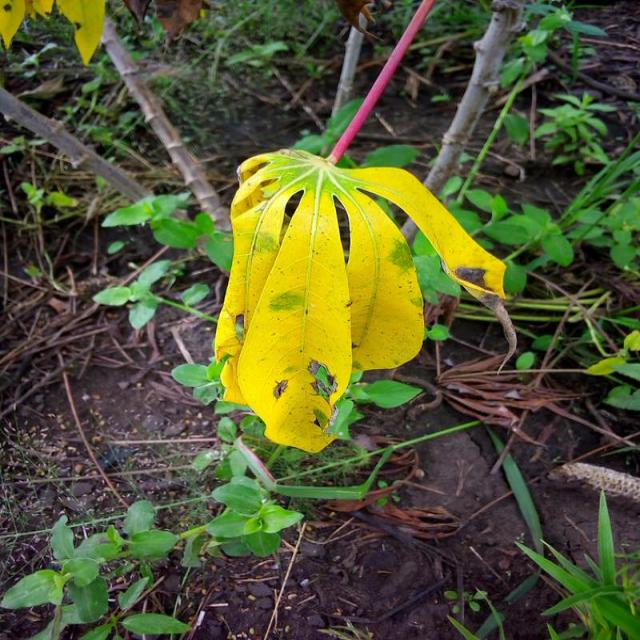cassava leaf: (213, 145, 515, 453)
